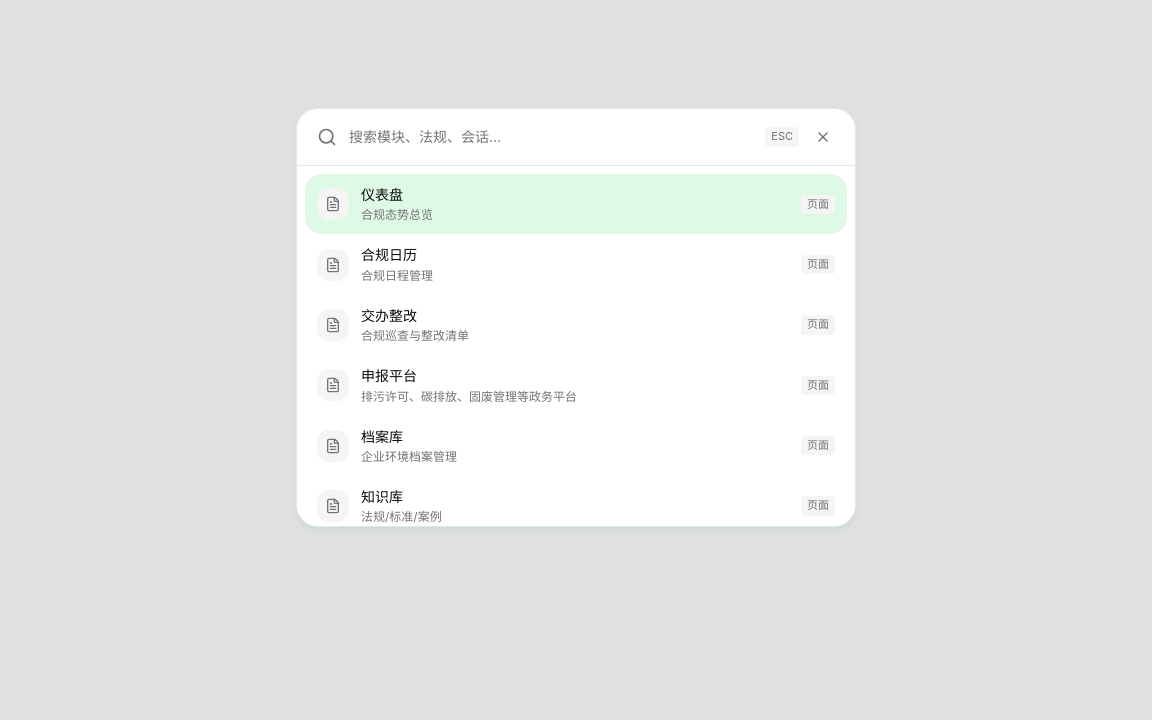
it: GlobalSearch › filtering › filters results by label substring match
Type "仪表" into the field with placeholder "搜索模块、法规、会话..." at [551, 137], box [349,126,753,148]
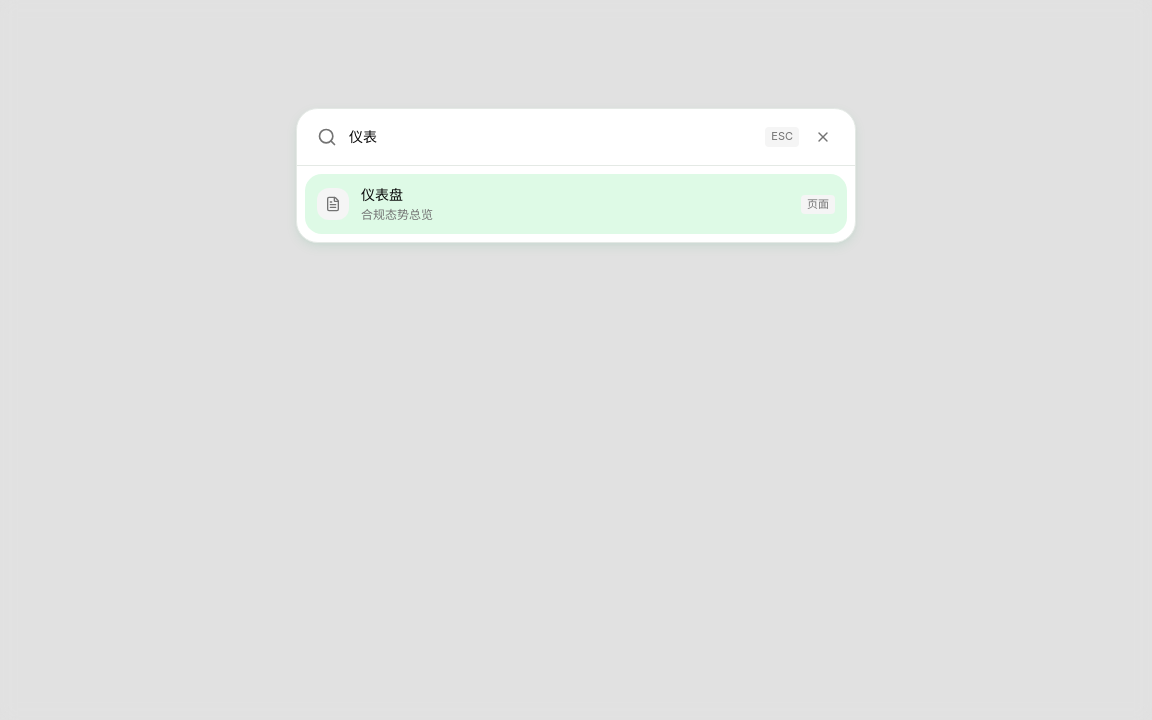
Expected: the text "仪表盘" is shown, [361,186,403,203]
Expected: the button "合规日历" is gone
